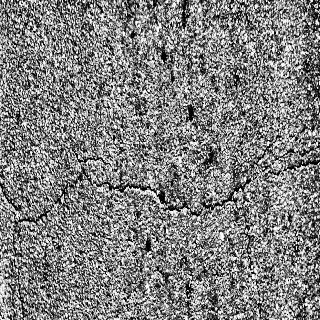crack: (25, 150, 320, 228), (13, 224, 24, 320), (0, 180, 23, 222)
